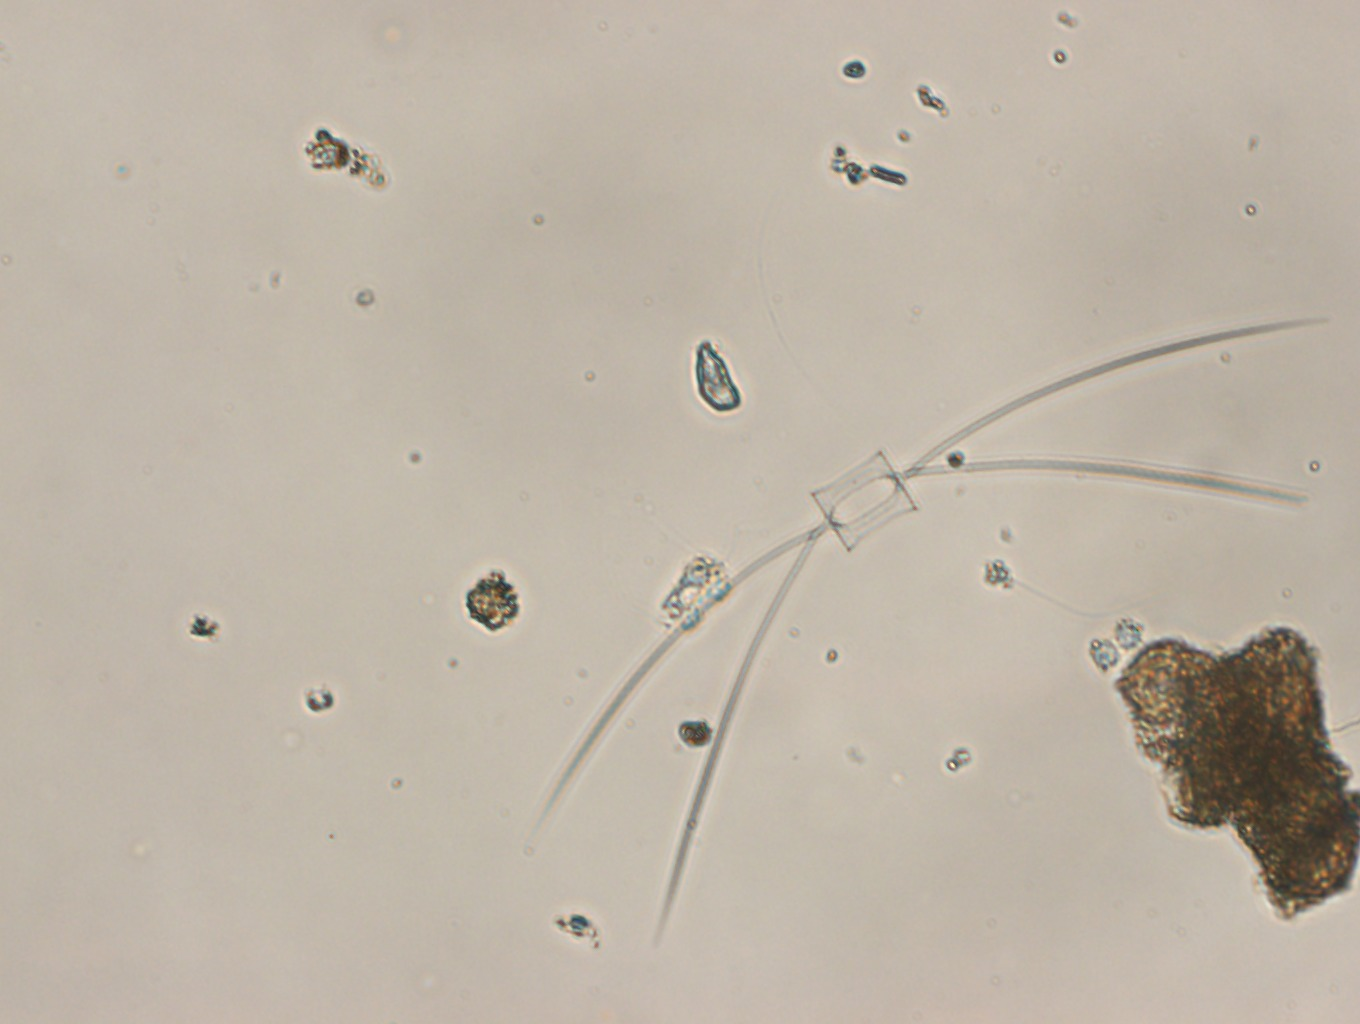chaetoceros: (532, 317, 1338, 949)
